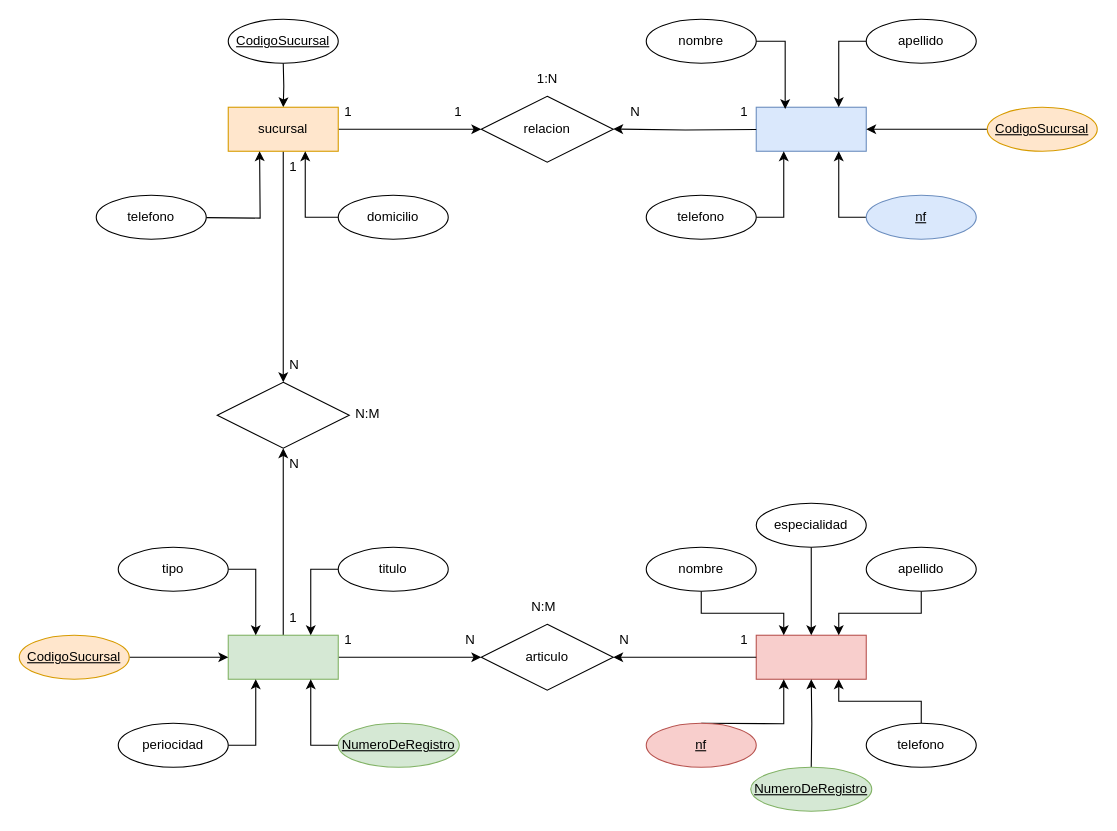
Image size: 1117x831. Some labels were removed from this diagram. Each missing label, with the centre of its shape:
empleados: point (810, 128)
PERIODISTA: point (810, 656)
publicacion: point (282, 414)
REVISTA: point (282, 656)
